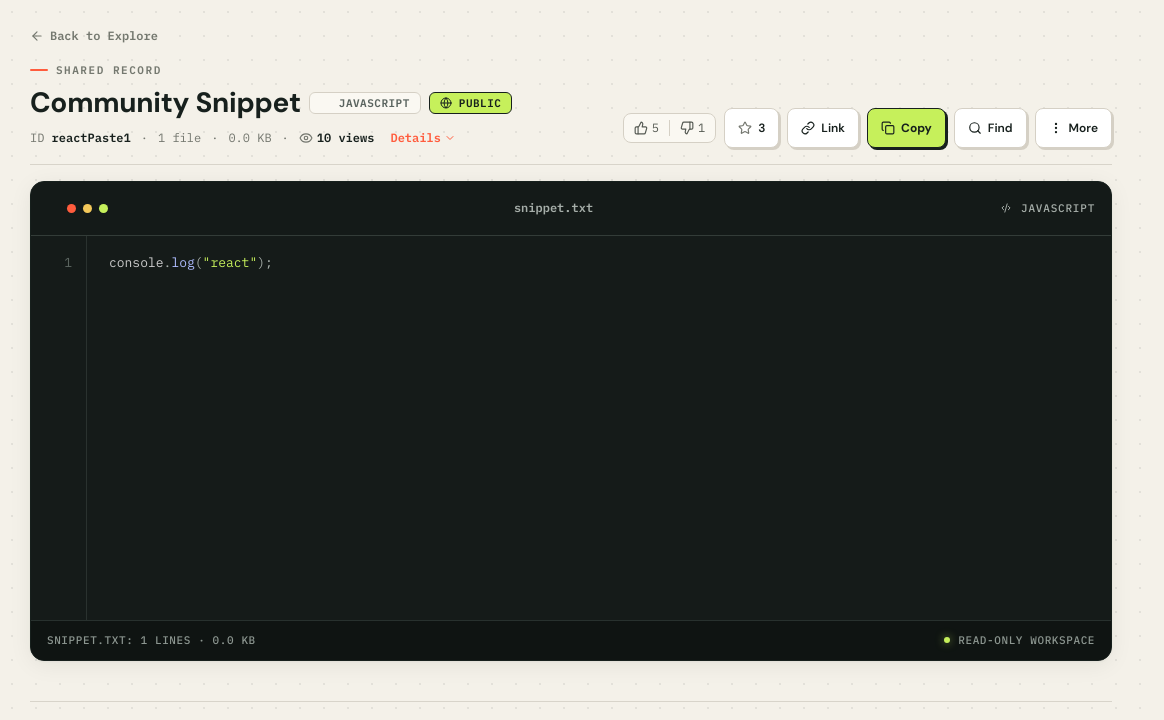
Test: Phase 2 Red Suite: Paste Reactions, Comment Reactions & Paste Starring (Vitest Contract) › anonymous user clicking star prompts authentication notification
Expected: the text "3" is shown, [758,119,765,137]
Click the button named "star this paste".
click(752, 128)  # box [724,108,779,148]
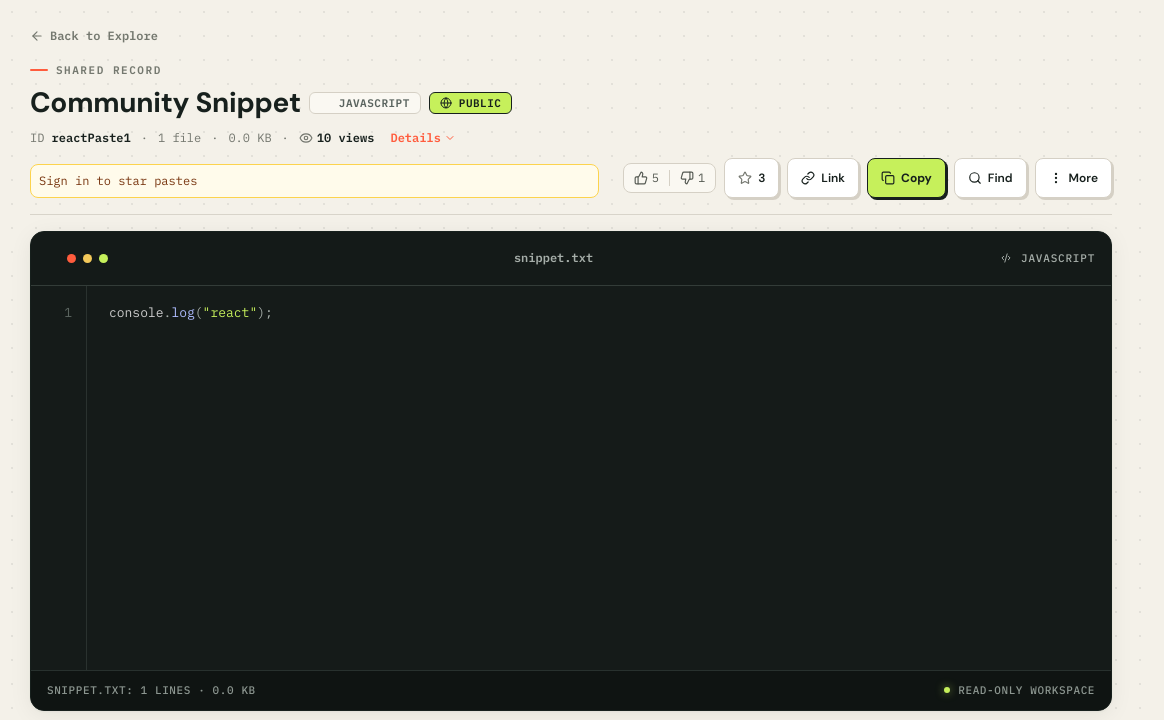
Now the text "Sign in to star pastes" is shown, box [30,164,599,198]
